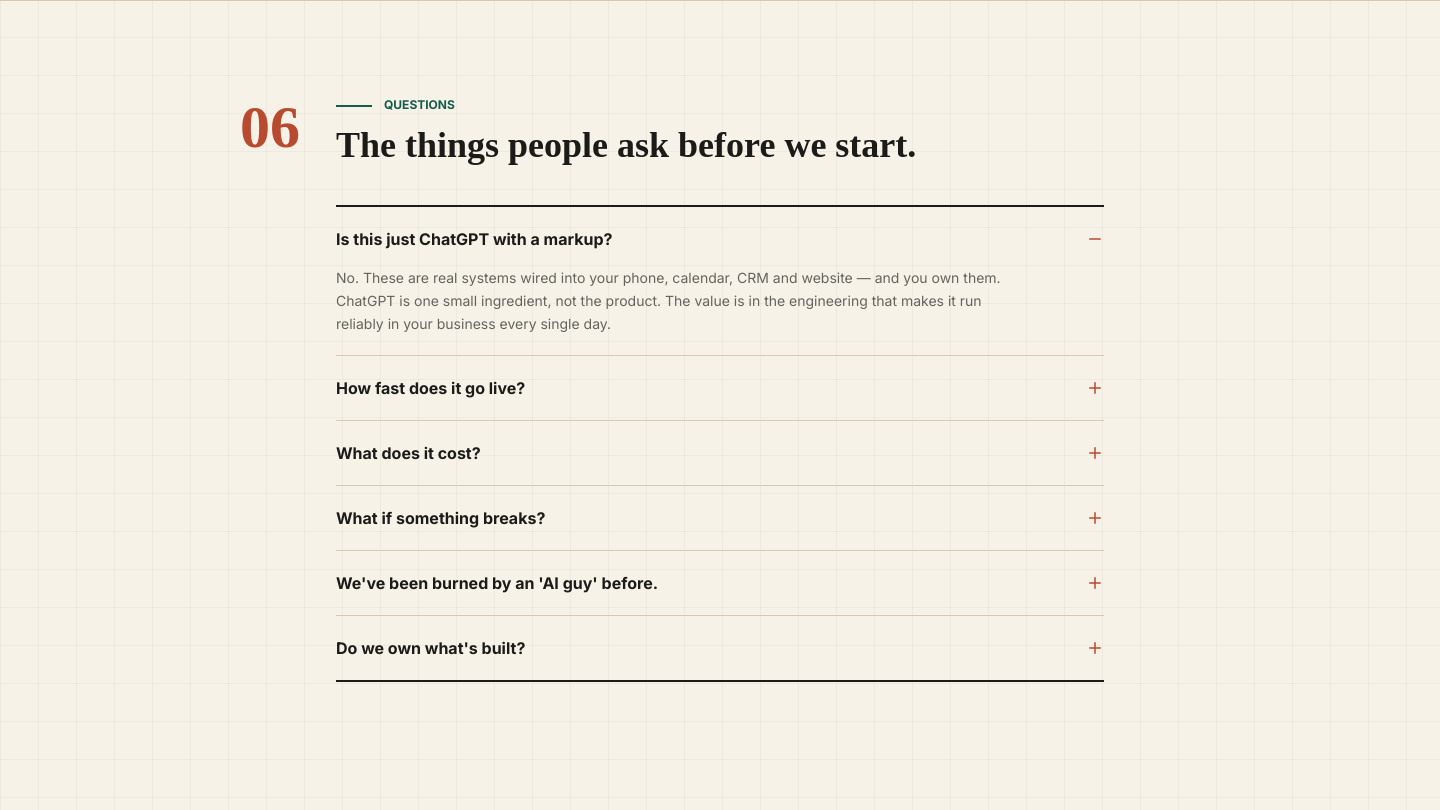
Scenario: FaqSection › opens the first answer by default and toggles others on click
Expected: the text "No. These are real systems wired into your phone, calendar, CRM and website — and you own them. ChatGPT is one small ing" is shown, [336, 269, 1001, 332]
Click the button "How fast does it go live?" at (431, 388), box [336, 356, 1104, 420]
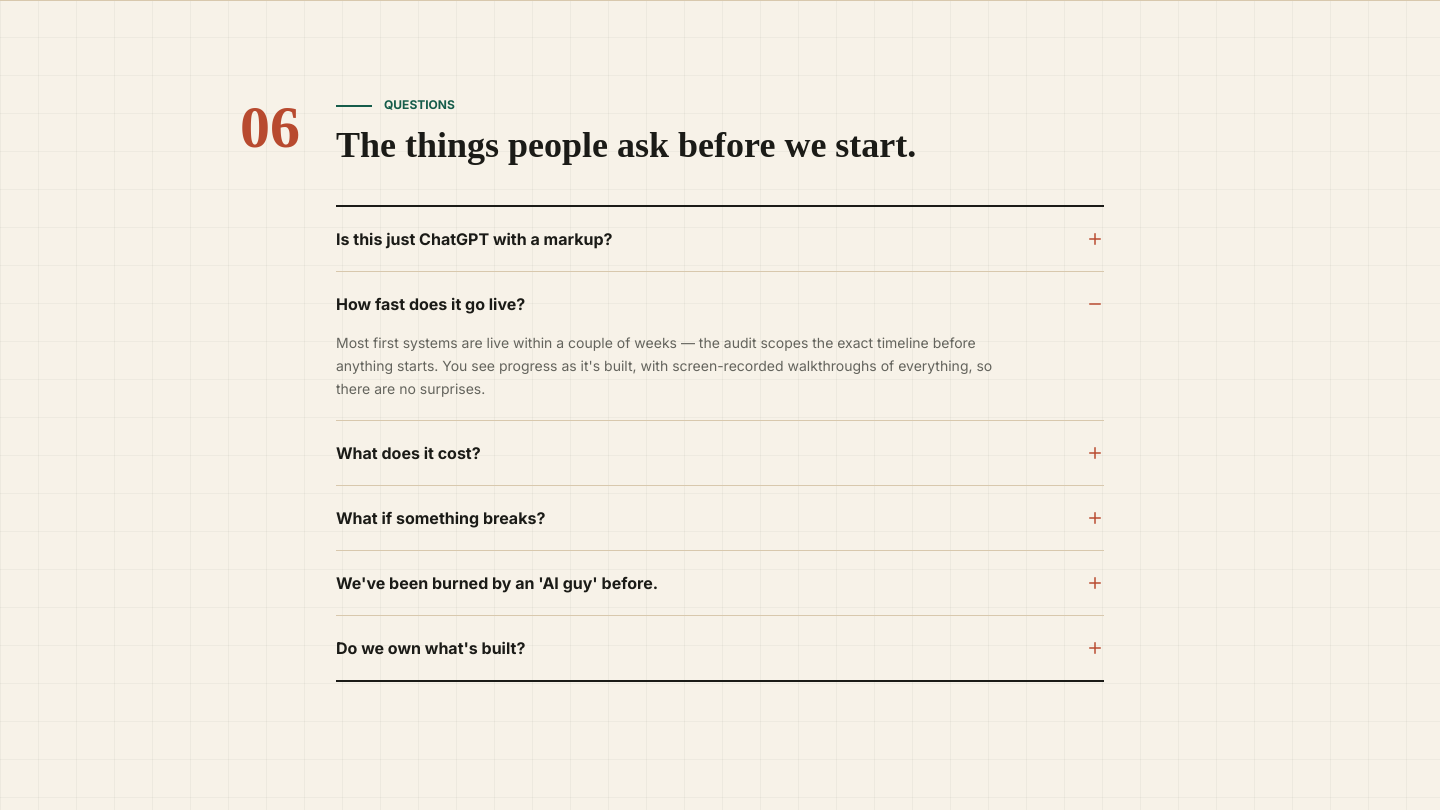
Now the text "Most first systems are live within a couple of weeks — the audit scopes the exact timeline before anything starts. You s" is shown, box [336, 334, 992, 396]
